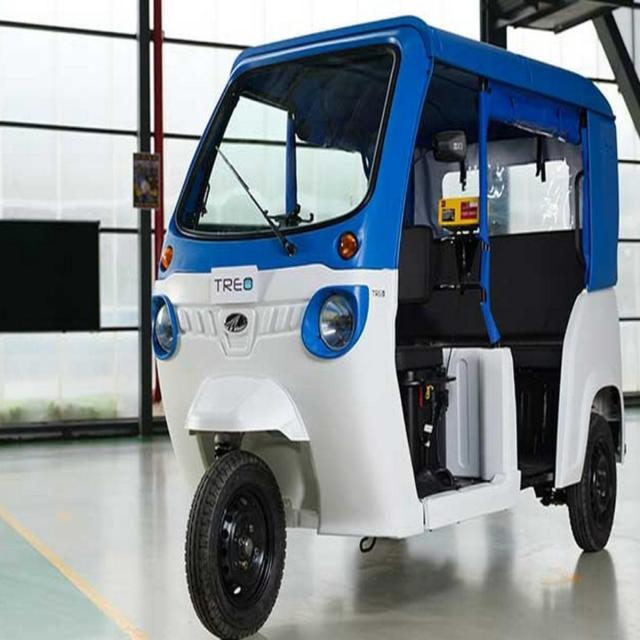autorickshaw: (151, 17, 624, 637)
